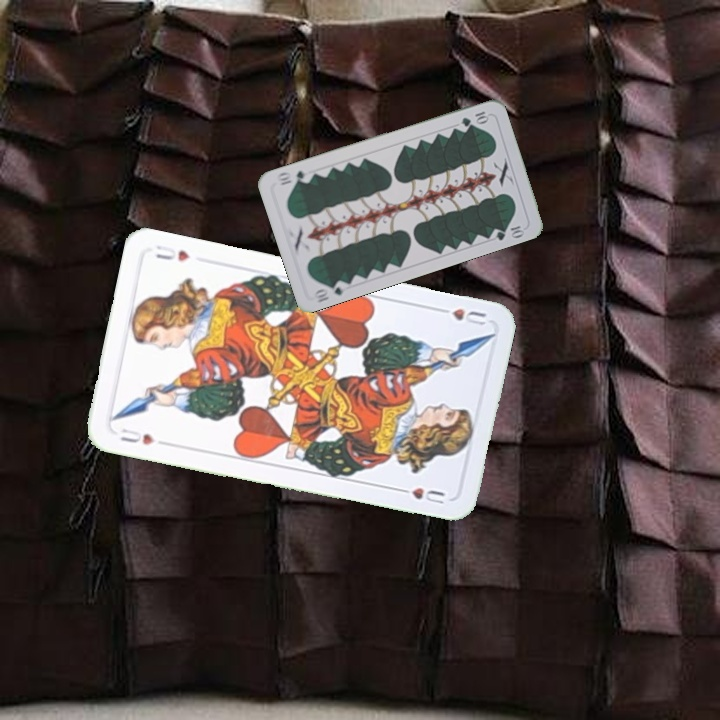G10: (309, 277, 350, 305), (457, 107, 491, 129)
HU: (432, 303, 490, 328), (115, 424, 157, 448)
